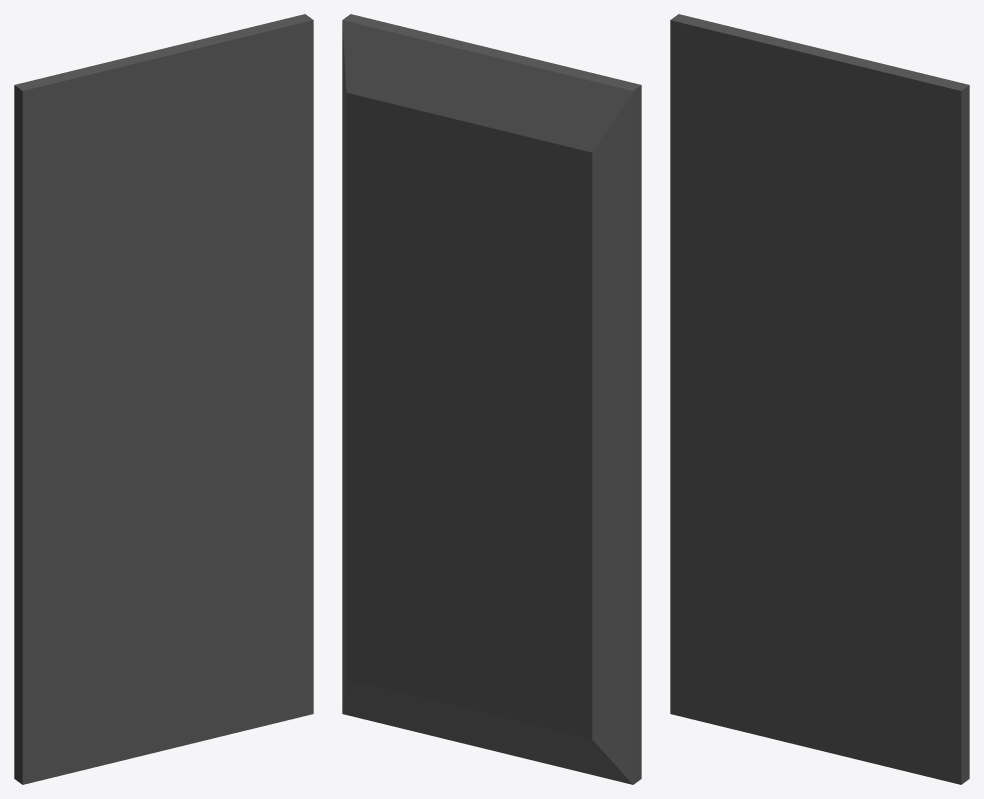
Rendered from doar2.obj.
3 views of the same model, side by side, from view 1: azimuth 30°, elevation 25°; view 2: azimuth 150°, elevation 25°; view 3: azimuth 330°, elevation 25° (orthographic).
Visible parts, largest first — view 1: Cube; view 2: Cube; view 3: Cube.
Boxes of the visible parts, <box> form: Cube: <box>14,14,313,784</box>; Cube: <box>342,14,641,784</box>; Cube: <box>670,14,969,784</box>.
Size of the model in its own units: 2 by 4.56 by 0.3192.
1 material, 1 textured.
